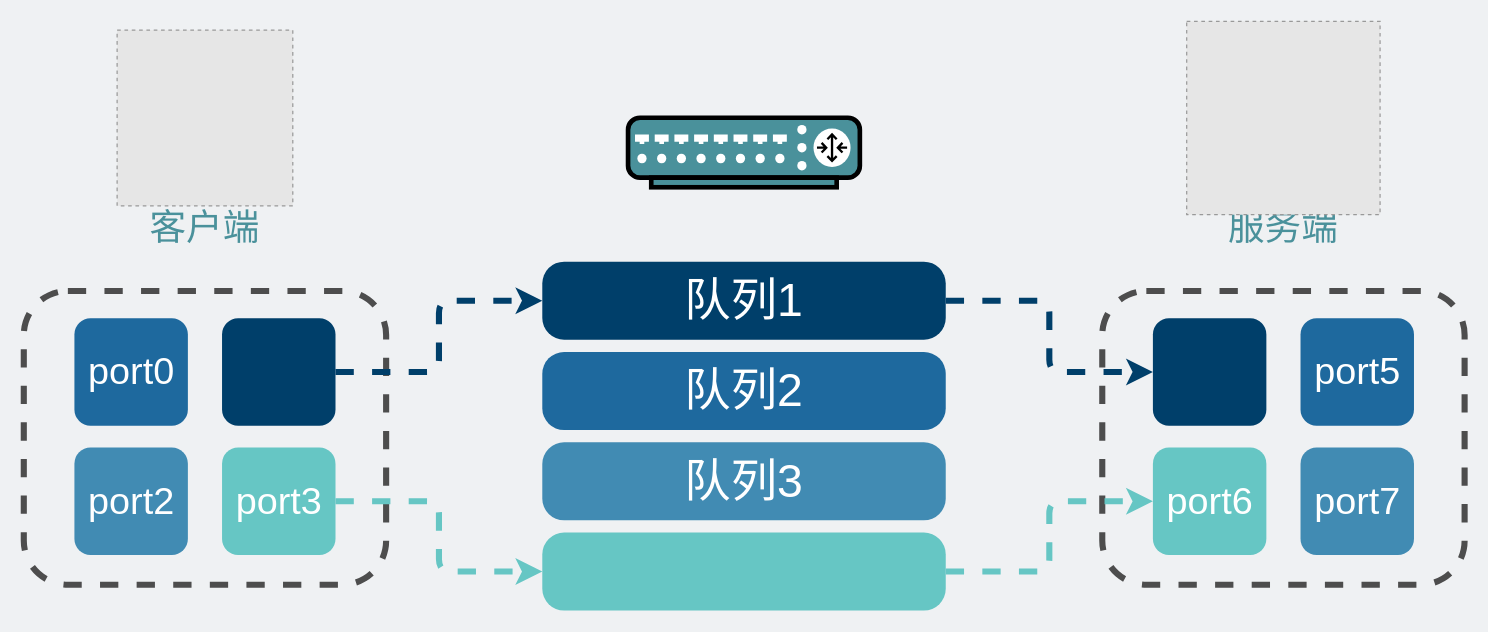
Some shapes in this 1488 by 632 pixel diagram are drawn without their labels. Grey dashed boxes stand in for pictures. Here are the shapes that lost their labels. From the top down, the box of each, then its label:
(221, 318, 335, 425): port1
(1152, 318, 1266, 425): port4
(542, 532, 945, 610): 队列4
